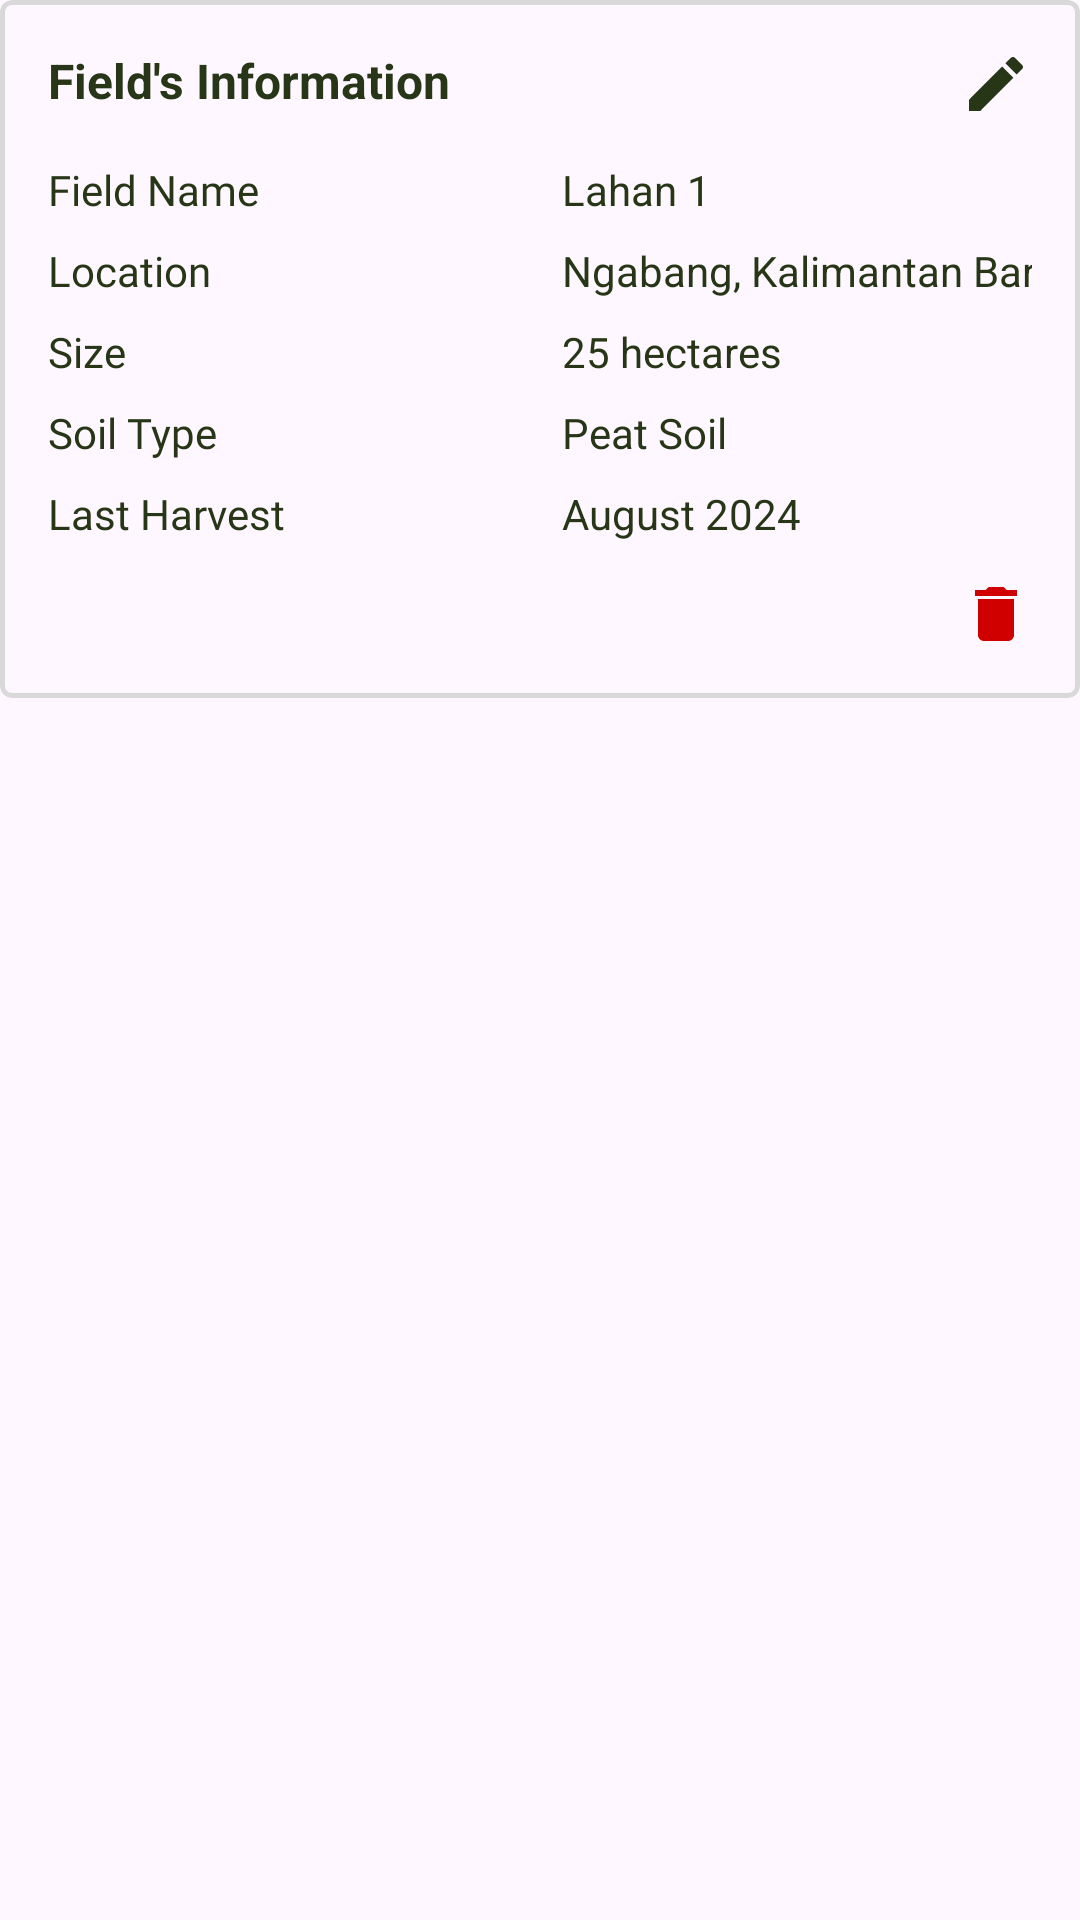

Screen size 1080w x 1920h. Icon name, then its center in pixels as (x,y):
delete text: (996,614)
edit text: (996,84)
